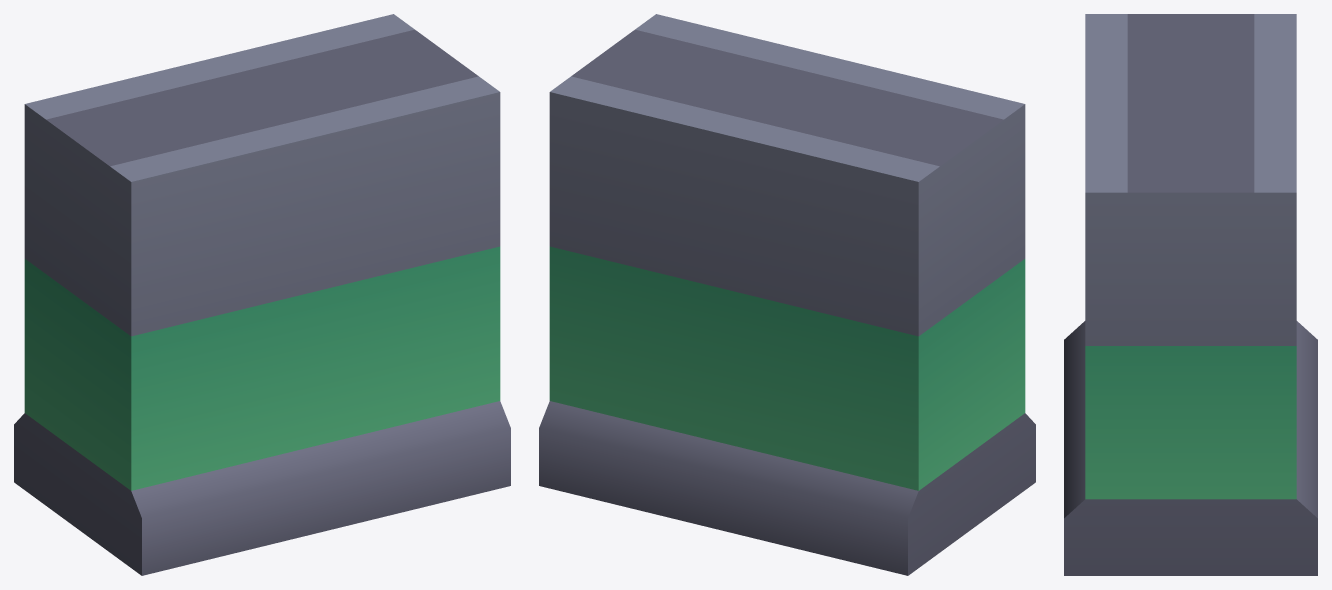
The model's file is wall.obj.
3 renders of one model, left to right at view 1: azimuth 30°, elevation 25°; view 2: azimuth 150°, elevation 25°; view 3: azimuth 270°, elevation 25°, orthographic.
Visible parts, largest first — view 1: wall; view 2: wall; view 3: wall.
Part boxes in pixels (x1=…): wall: x1=14, y1=14, x2=510, y2=575; wall: x1=539, y1=14, x2=1035, y2=575; wall: x1=1064, y1=14, x2=1317, y2=575.
Bounding box in the file's own units: 1 × 1 × 0.6.
Materials: 1 (1 with a texture image).
